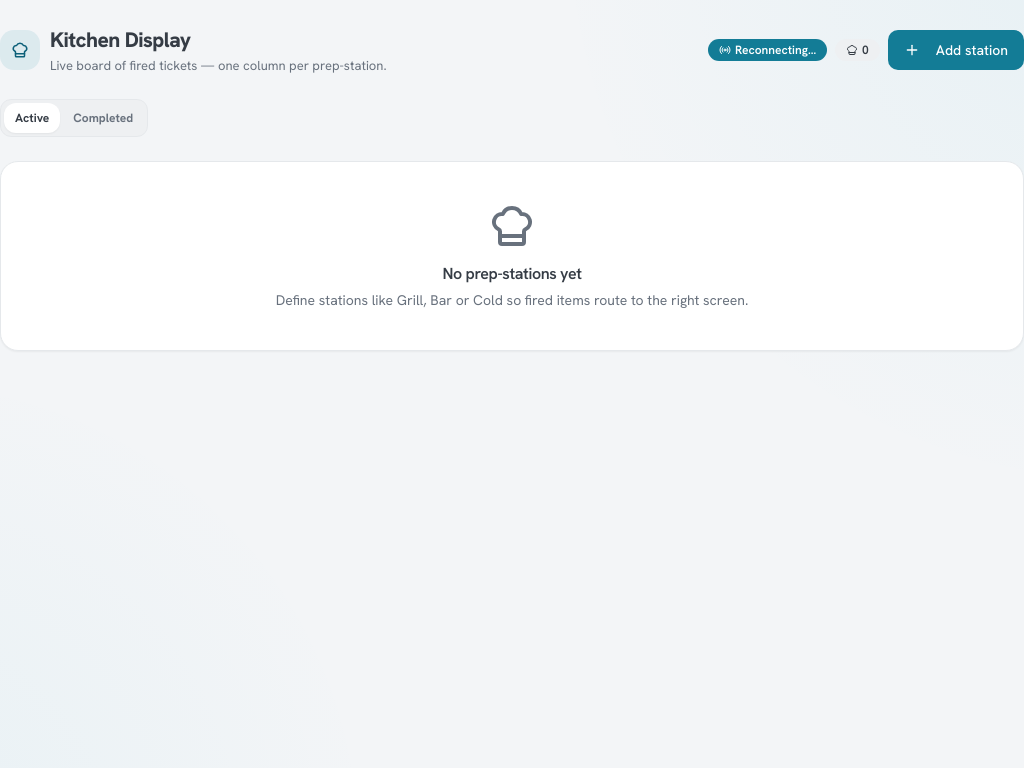
KDS add-station dialog input labelling a11y (ISSUE-226) › names each station-form input from its visible label
This screenshot has width=1024, height=768.
Step 1. Click the button "Add station" → {"x": 956, "y": 50}, box x1=888 y1=30 x2=1023 y2=70
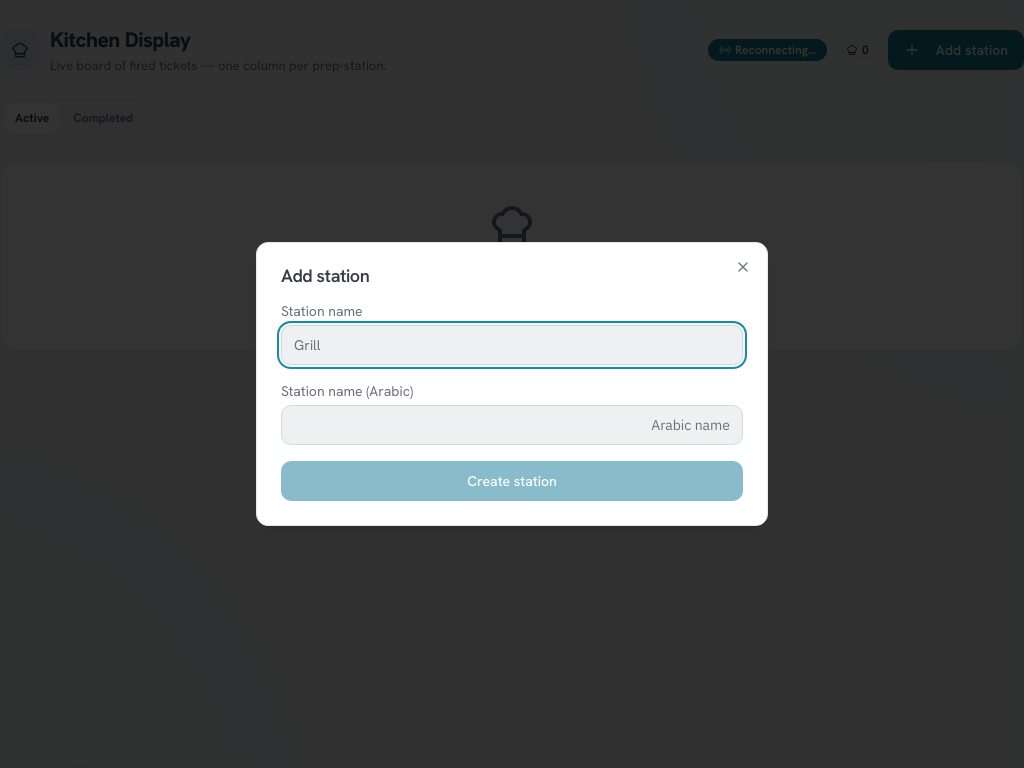
Expected: the field labelled "Station name" is shown, x1=281 y1=325 x2=743 y2=365
Expected: the field labelled "Station name (Arabic)" is shown, x1=281 y1=405 x2=743 y2=445
